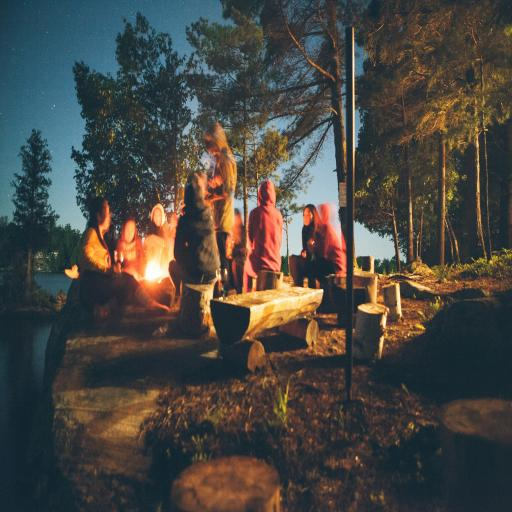campfire: (127, 226, 178, 308)
